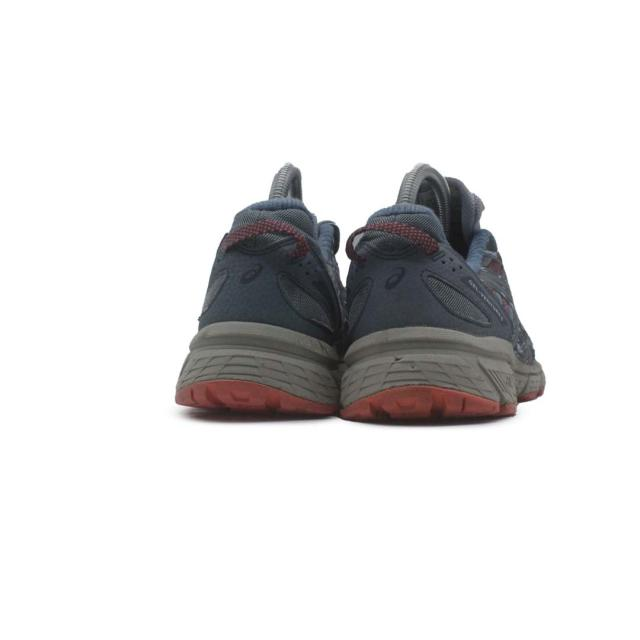heel: (191, 201, 336, 346), (341, 210, 499, 340)
midsole: (178, 328, 340, 416), (340, 337, 508, 421)
